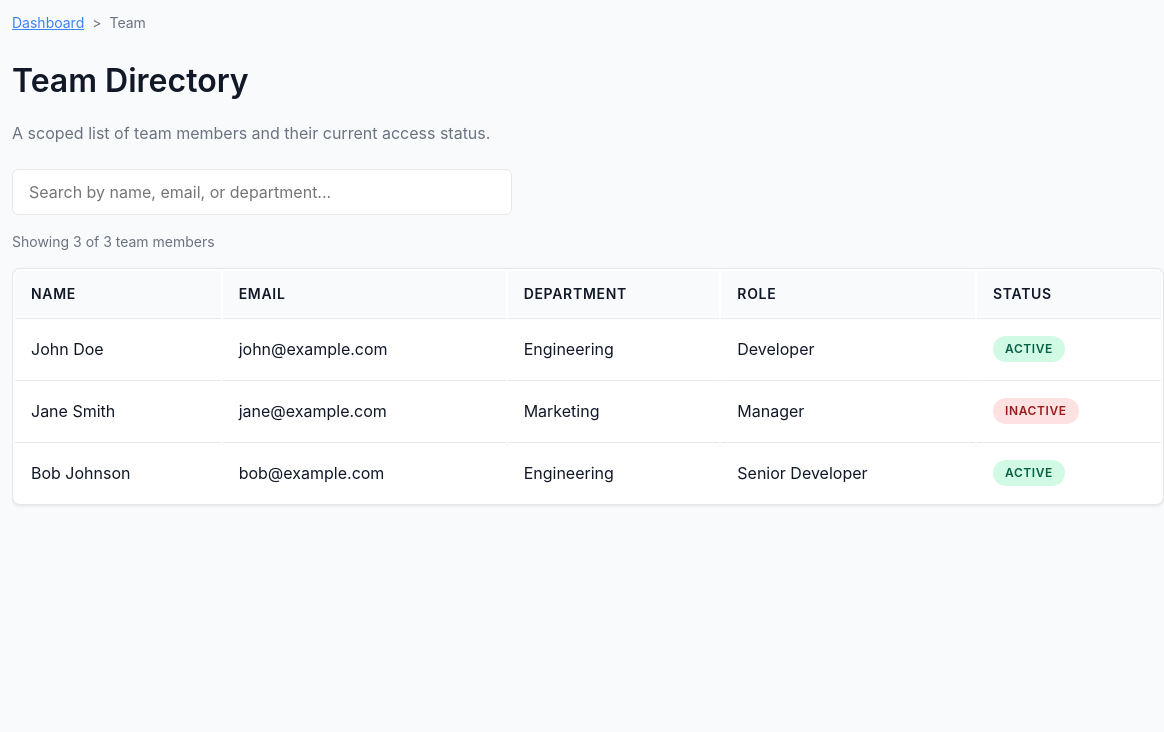
TeamDirectoryPage › filters team members by search query
The image size is (1164, 732).
Check: the heading "Team Directory" is shown, box [12,61,249,100]
Type "john" into the field with placeholder "Search by name, email, or department..." at (262, 192), box [12,169,512,215]
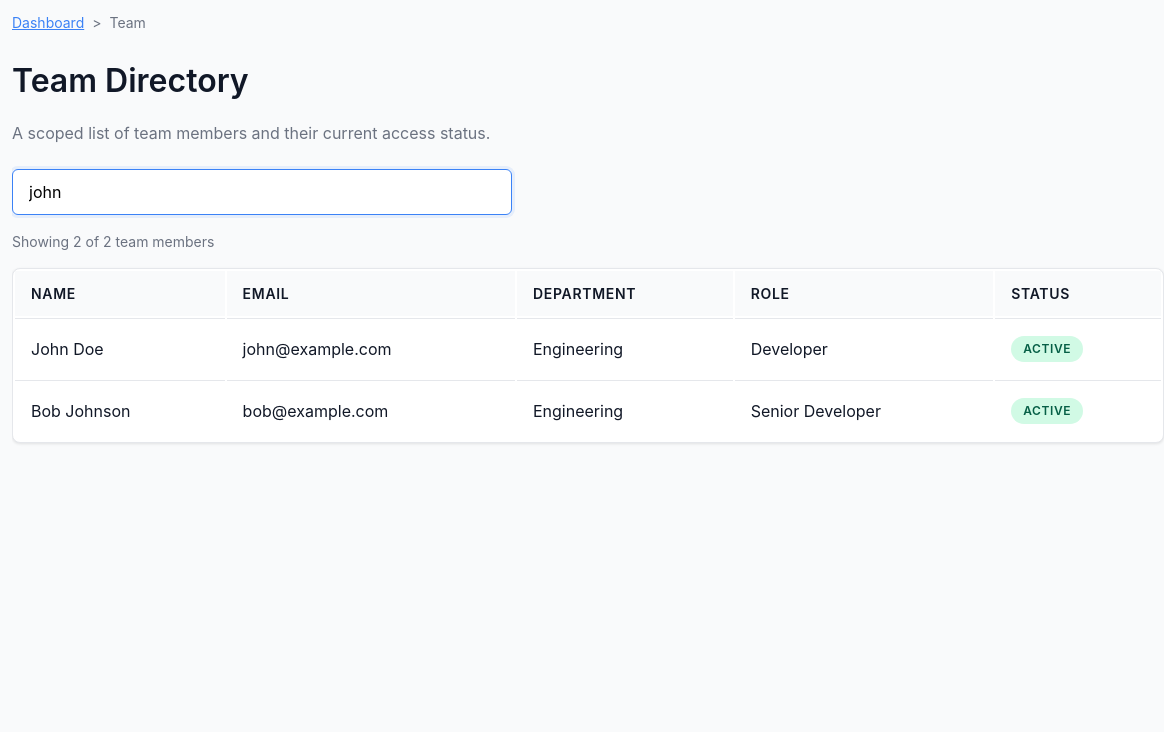
Check: the text "John Doe" is shown, box [15,318,225,378]
Check: the text "Jane Smith" is gone
